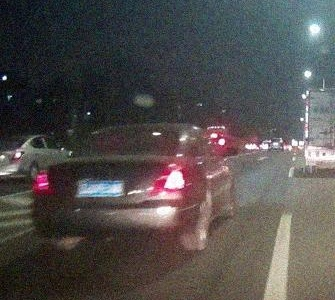L_light: (32, 170, 55, 195)
R_light: (147, 162, 190, 195)
T_light: (121, 128, 135, 131)
night-no: (32, 124, 195, 252)
